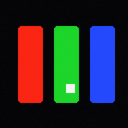1 square: (66, 84, 74, 92)
